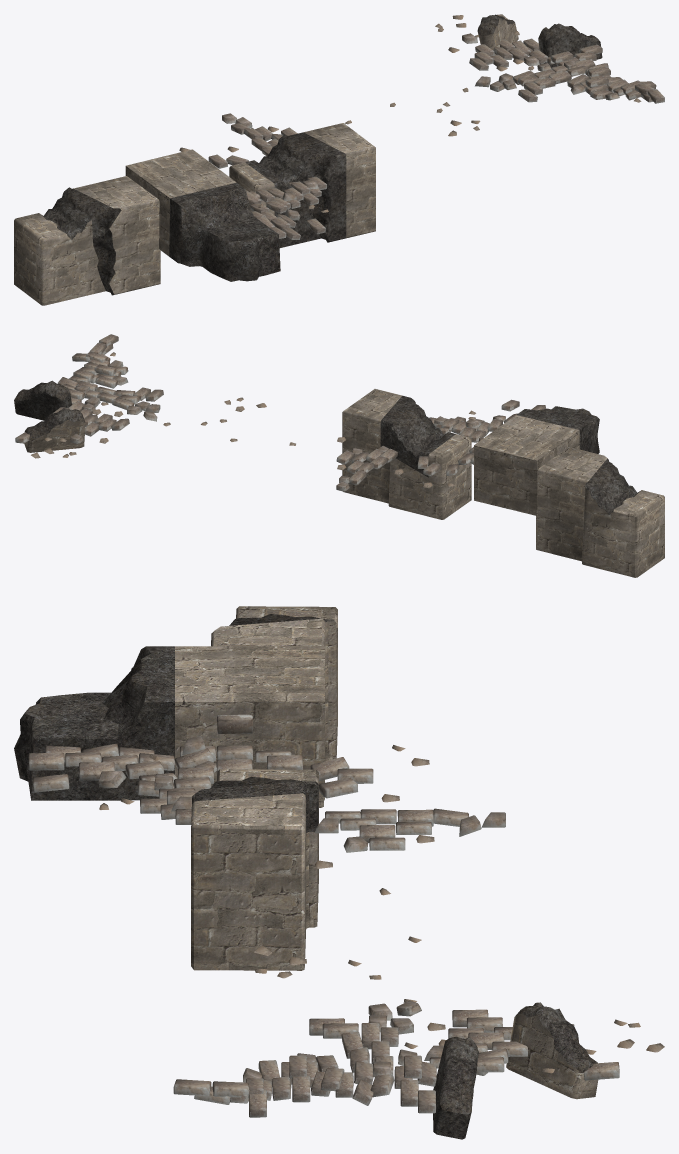
The picture shows the model from 3 angles, top to bottom: view 1: azimuth 30°, elevation 25°; view 2: azimuth 150°, elevation 25°; view 3: azimuth 270°, elevation 25°; orthographic projection. The views are drawn at different scales.
Parts seen in each view (by area): view 1: Material_#29, Material_#28, Material_#33; view 2: Material_#29, Material_#33, Material_#28; view 3: Material_#29, Material_#33, Material_#28.
Part boxes in pixels (box(x1,y1,x2,y2)): Material_#29: box(14, 18, 602, 305); Material_#28: box(42, 14, 599, 295); Material_#33: box(179, 14, 664, 239); Material_#29: box(14, 389, 664, 577); Material_#33: box(15, 334, 546, 491); Material_#28: box(14, 380, 639, 514); Material_#29: box(25, 606, 598, 1139); Material_#33: box(28, 714, 664, 1117); Material_#28: box(14, 614, 597, 1114).
Size of the model in its own units: 58.59 by 8.71 by 31.64.
